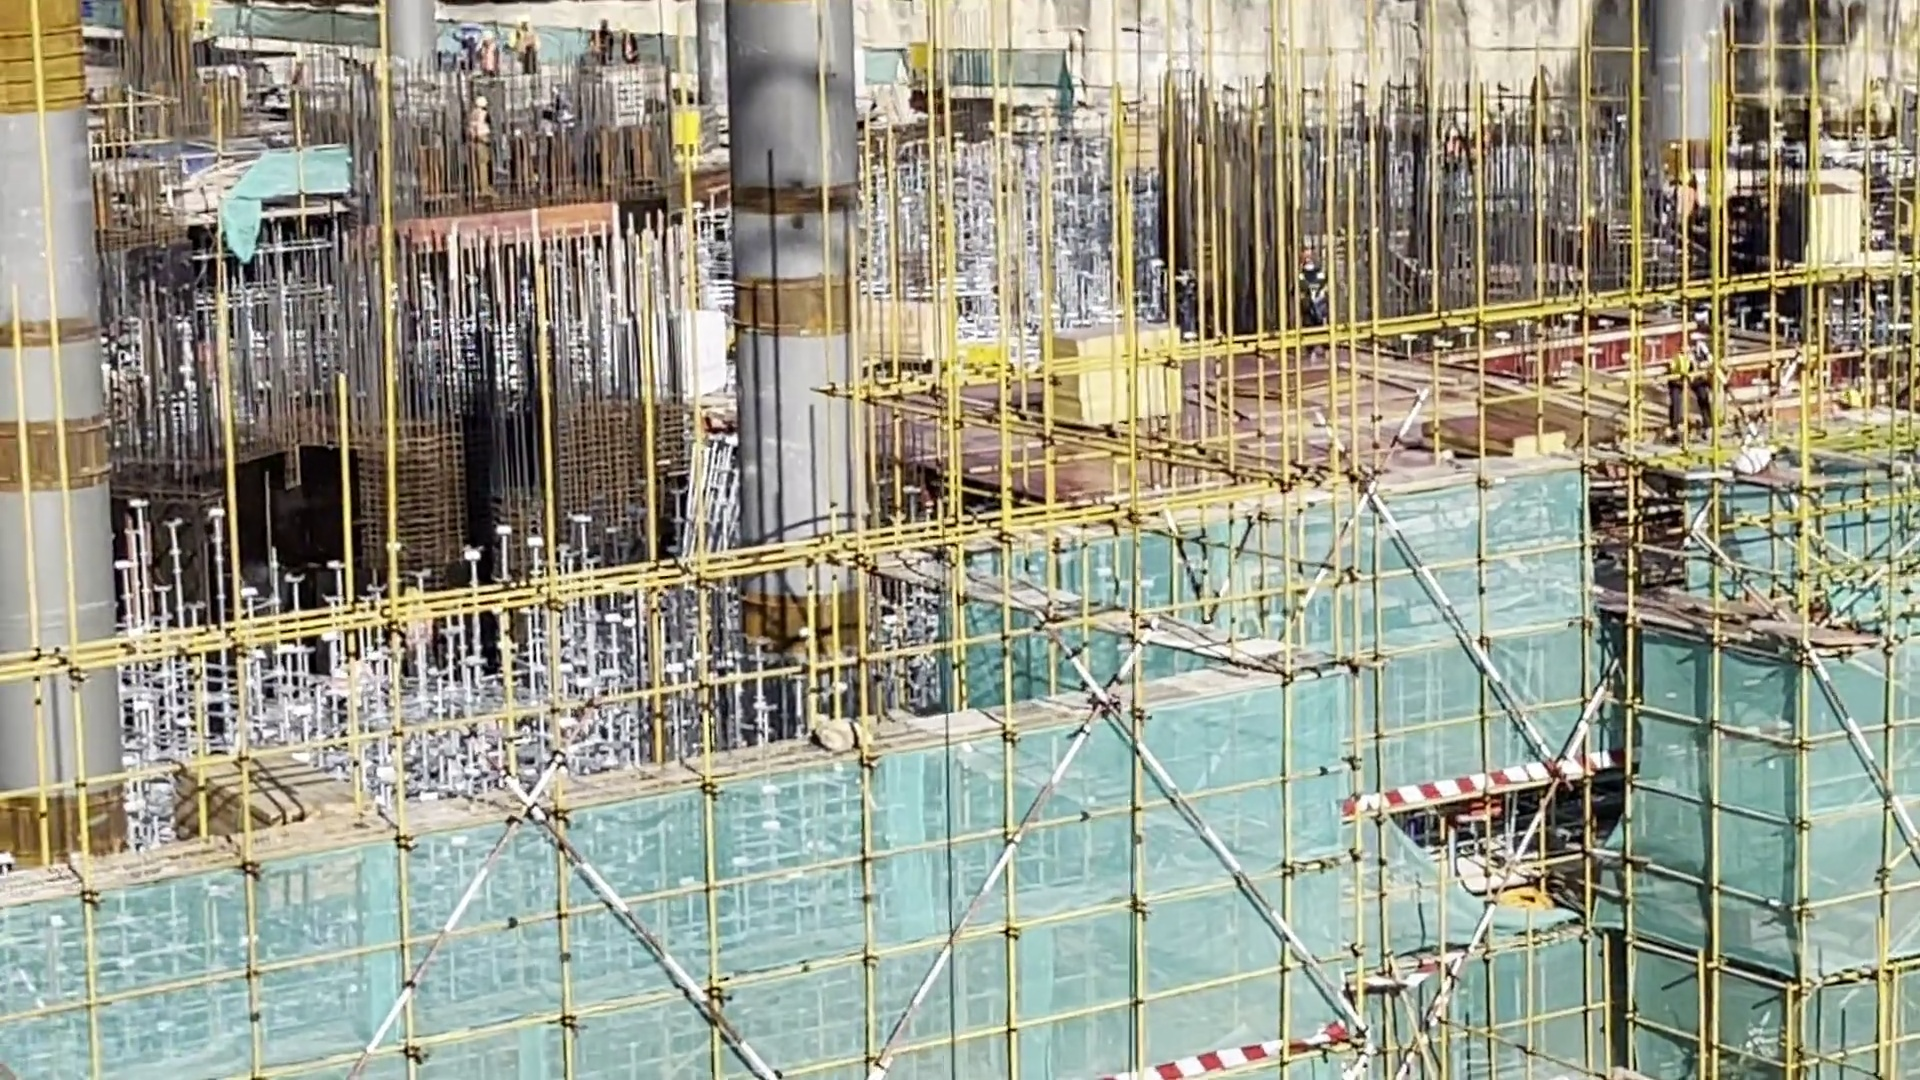ebox: (665, 102, 700, 167), (900, 36, 930, 82)
helmet: (467, 92, 494, 110), (1301, 249, 1320, 271)
person: (1292, 239, 1334, 339), (465, 91, 498, 147), (469, 29, 501, 77), (620, 20, 646, 64), (589, 18, 611, 67)
vest: (1308, 281, 1327, 317)
